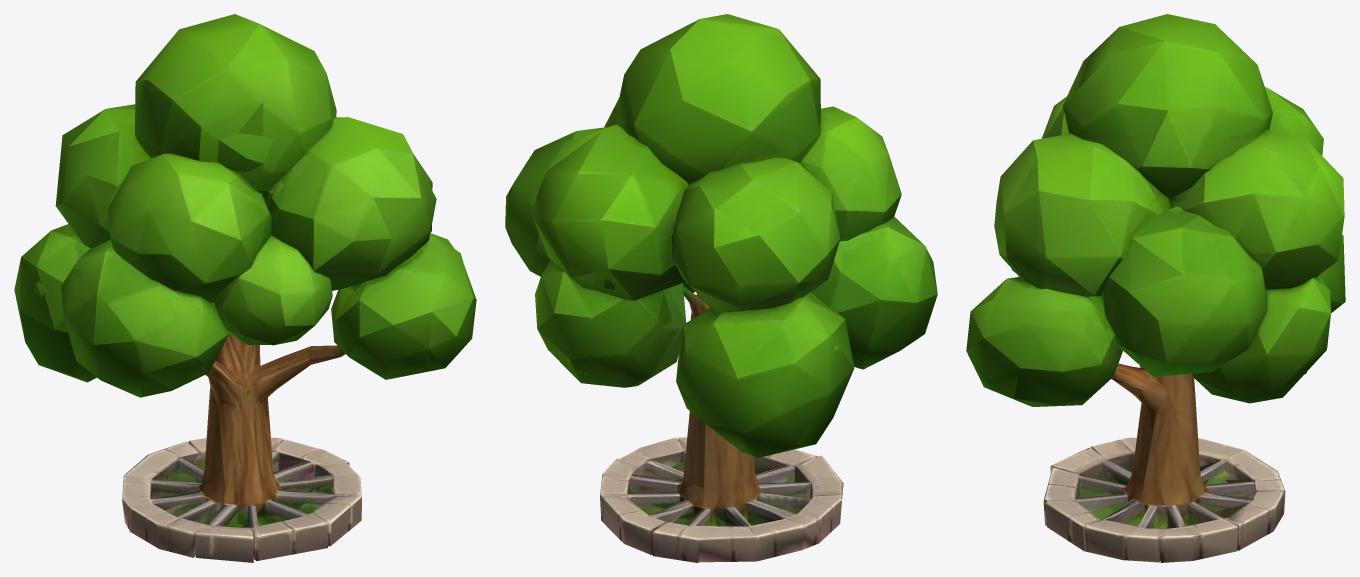
Rendered from tree.glb.
3 renders of one model, left to right at view 1: azimuth 30°, elevation 25°; view 2: azimuth 150°, elevation 25°; view 3: azimuth 270°, elevation 25°, orthographic.
Size of the model in its own units: 0.8184 by 1 by 0.7148.
Materials: 1 (1 with a texture image).
